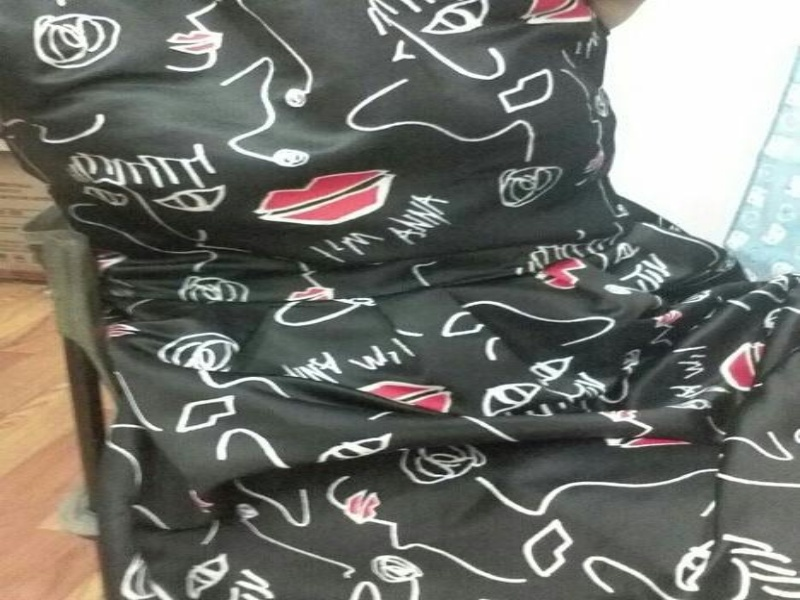vest_dress: (0, 0, 793, 599)
